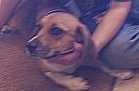dog: (29, 11, 125, 88)
